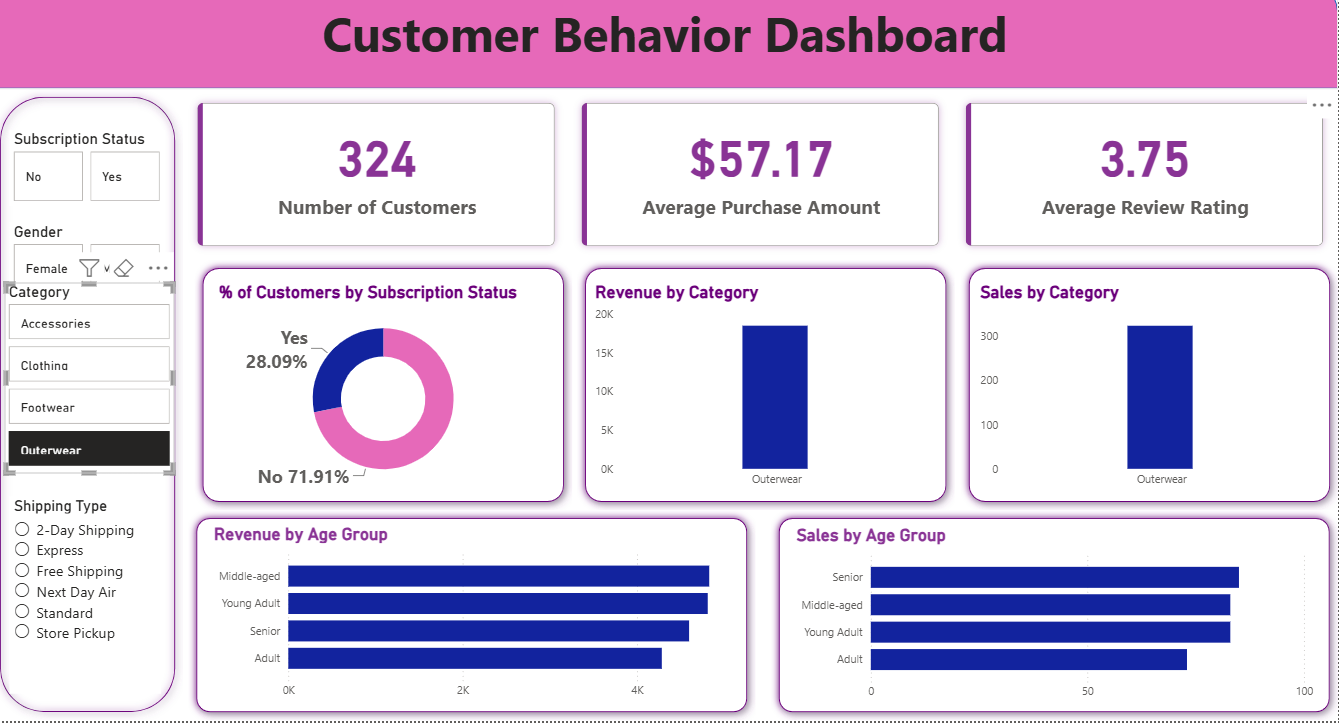

The dashboard page shown, as its layout file describes it:
{"tool":"powerbi","page":{"name":"Page 1","canvas":[1500,820],"ordinal":0},"visuals":[{"type":"cardVisual","fields":{"Data":["public customer.Number of Customers","public customer.Average Purchase Amount","public customer.Average Review Rating"]},"box":[212.9,115.3,1286.5,191.6],"z":2000},{"type":"shape","box":[218.3,585.6,631.7,234.2],"z":2500,"group":"g1"},{"type":"shape","box":[0,0,1499.4,115.3],"z":3000},{"type":"textbox","box":[0,12.4,1499.4,102.9],"z":4000},{"type":"shape","box":[225.4,307,420.5,278.6],"z":5000},{"type":"donutChart","title":"% of Customers by Subscription Status","fields":{"Category":["public customer.subscription_status"],"Y":["CountNonNull(public customer.customer_id)"]},"box":[248.4,331.8,376.2,237.8],"z":6000},{"type":"shape","box":[1078.9,307,420.5,278.6],"z":7000},{"type":"shape","box":[652.1,307,420.5,278.6],"z":8000},{"type":"clusteredColumnChart","title":"Revenue by Category","fields":{"Y":["Sum(public customer.purchase_amount)"],"Category":["public customer.category"]},"box":[667.2,331.8,385.1,237.8],"z":9000},{"type":"clusteredColumnChart","title":"Sales by Category","fields":{"Y":["CountNonNull(public customer.customer_id)"],"Category":["public customer.category"]},"box":[1096.6,331.8,385.1,237.8],"z":10000},{"type":"shape","box":[0,115.3,212.9,704.5],"z":11000},{"type":"advancedSlicerVisual","fields":{"Values":["public customer.subscription_status"]},"box":[19.5,161.5,173.9,85.2],"z":12000},{"type":"advancedSlicerVisual","fields":{"Values":["public customer.gender"]},"box":[19.5,264.4,173.9,85.2],"z":13000},{"type":"advancedSlicerVisual","fields":{"Values":["public customer.category"]},"box":[14.2,358.4,179.2,186.3],"z":14000},{"type":"listSlicer","fields":{"Values":["public customer.shipping_type"]},"box":[19.5,569.6,168.6,220],"z":15000},{"type":"shape","box":[867.7,585.6,631.7,234.2],"z":16000},{"type":"clusteredBarChart","title":"Sales by Age Group","fields":{"Y":["CountNonNull(public customer.customer_id)"],"Category":["public customer.age_group"]},"box":[890.8,601.5,585.6,204.1],"z":17000},{"type":"clusteredBarChart","title":"Revenue by Age Group","fields":{"Y":["Sum(public customer.purchase_amount)"],"Category":["public customer.age_group"]},"box":[241.4,601.6,585.6,204.1],"z":17500,"group":"g1"},{"type":"group","id":"g1","title":"Group 1","box":[218.3,585.6,631.7,234.2],"z":17501}]}

Visuals, with their boxes in screenshot pixels (x1, y1, x2, y2), scaled from the page's 1500x820 canvas onto the 1339x725 screenshot:
cardVisual - public customer.Number of Customers x public customer.Average Purchase Amount: 190, 102, 1338, 271
shape: 195, 518, 759, 724
shape: 0, 0, 1338, 102
textbox: 0, 11, 1338, 102
shape: 201, 271, 577, 518
"% of Customers by Subscription Status" donutChart: 222, 293, 558, 504
shape: 963, 271, 1338, 518
shape: 582, 271, 957, 518
"Revenue by Category" clusteredColumnChart: 596, 293, 939, 504
"Sales by Category" clusteredColumnChart: 979, 293, 1323, 504
shape: 0, 102, 190, 724
advancedSlicerVisual - public customer.subscription_status: 17, 143, 173, 218
advancedSlicerVisual - public customer.gender: 17, 234, 173, 309
advancedSlicerVisual - public customer.category: 13, 317, 173, 482
listSlicer - public customer.shipping_type: 17, 504, 168, 698
shape: 775, 518, 1338, 724
"Sales by Age Group" clusteredBarChart: 795, 532, 1318, 712
"Revenue by Age Group" clusteredBarChart: 215, 532, 738, 712
"Group 1" group: 195, 518, 759, 724
